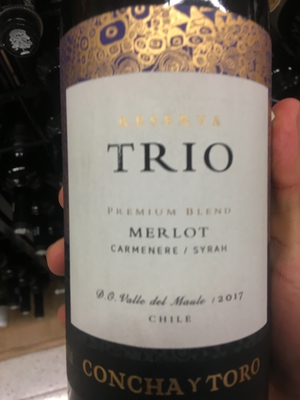trio merlot: (54, 14, 275, 400)
